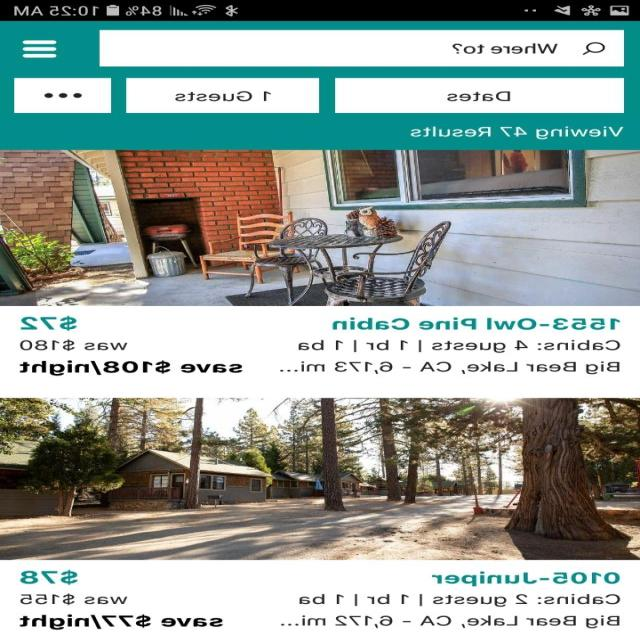EditText: (100, 30, 624, 67)
Icon: (22, 39, 58, 58), (582, 42, 606, 55)
Image: (1, 398, 640, 560), (1, 150, 640, 306)
Text: (280, 593, 620, 629), (280, 339, 620, 375), (20, 359, 244, 376), (332, 317, 620, 330), (20, 612, 224, 630), (432, 570, 620, 587), (411, 126, 624, 139), (20, 592, 129, 605), (20, 339, 129, 351), (452, 43, 560, 54), (21, 570, 79, 585), (22, 316, 78, 331)
TextButton: (335, 78, 624, 113), (127, 78, 320, 113), (15, 78, 113, 113)
